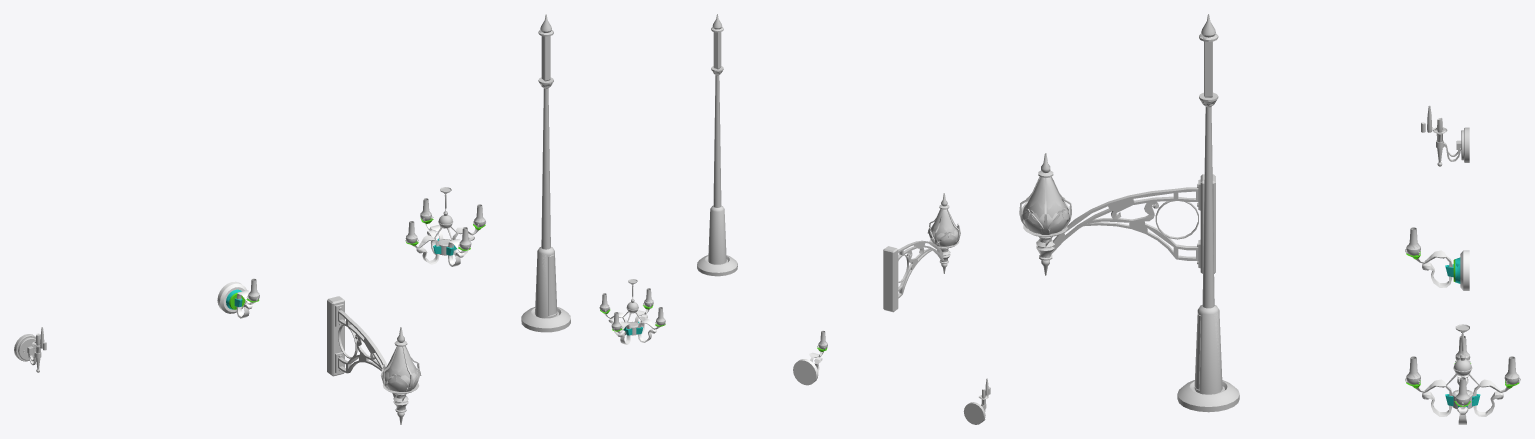
Rendered from Lighting00.fbx.
3 renders of one model, left to right at view 1: azimuth 30°, elevation 25°; view 2: azimuth 150°, elevation 25°; view 3: azimuth 270°, elevation 25°, orthographic. The views are drawn at different scales.
Parts seen in each view (by area): view 1: Cylinder010, Box005, Box011, Box004, Cylinder003, Cylinder009, GeoSphere001, Sphere006, Cylinder015; view 2: Cylinder010, Box004, Box011, Box005, Cylinder009, Cylinder003, GeoSphere001, Sphere006, Cylinder017, Cylinder025; view 3: Cylinder010, Box005, Cylinder003, Cylinder009, Box011, GeoSphere001, Box003, Sphere006, Box004, Cylinder012, Cylinder015, Box006.
Boxes of the visible parts, bbox=[...] form: Cylinder010: bbox=[535, 14, 557, 318]; Box005: bbox=[335, 304, 395, 397]; Box011: bbox=[406, 218, 485, 266]; Box004: bbox=[327, 296, 344, 376]; Cylinder003: bbox=[381, 327, 421, 424]; Cylinder009: bbox=[521, 307, 570, 332]; GeoSphere001: bbox=[384, 346, 418, 391]; Sphere006: bbox=[405, 198, 485, 249]; Cylinder015: bbox=[217, 281, 247, 313]; Cylinder010: bbox=[708, 14, 726, 264]; Box004: bbox=[883, 246, 898, 312]; Box011: bbox=[600, 305, 665, 344]; Box005: bbox=[898, 240, 944, 298]; Cylinder009: bbox=[697, 255, 737, 276]; Cylinder003: bbox=[927, 193, 960, 273]; GeoSphere001: bbox=[930, 209, 957, 246]; Sphere006: bbox=[599, 288, 665, 330]; Cylinder017: bbox=[793, 360, 815, 384]; Cylinder025: bbox=[963, 402, 985, 424]; Cylinder010: bbox=[1194, 14, 1222, 394]; Box005: bbox=[1050, 179, 1200, 267]; Cylinder003: bbox=[1019, 153, 1071, 275]; Cylinder009: bbox=[1177, 380, 1239, 412]; Box011: bbox=[1406, 363, 1519, 424]; GeoSphere001: bbox=[1022, 177, 1068, 234]; Box003: bbox=[1052, 181, 1200, 266]; Sphere006: bbox=[1406, 335, 1519, 405]; Box004: bbox=[1200, 174, 1215, 273]; Cylinder012: bbox=[1021, 171, 1071, 262]; Cylinder015: bbox=[1453, 250, 1469, 290]; Box006: bbox=[1406, 250, 1453, 287].
Size of what is drawn, in the model's own units: 65.52 by 43.33 by 48.48.
